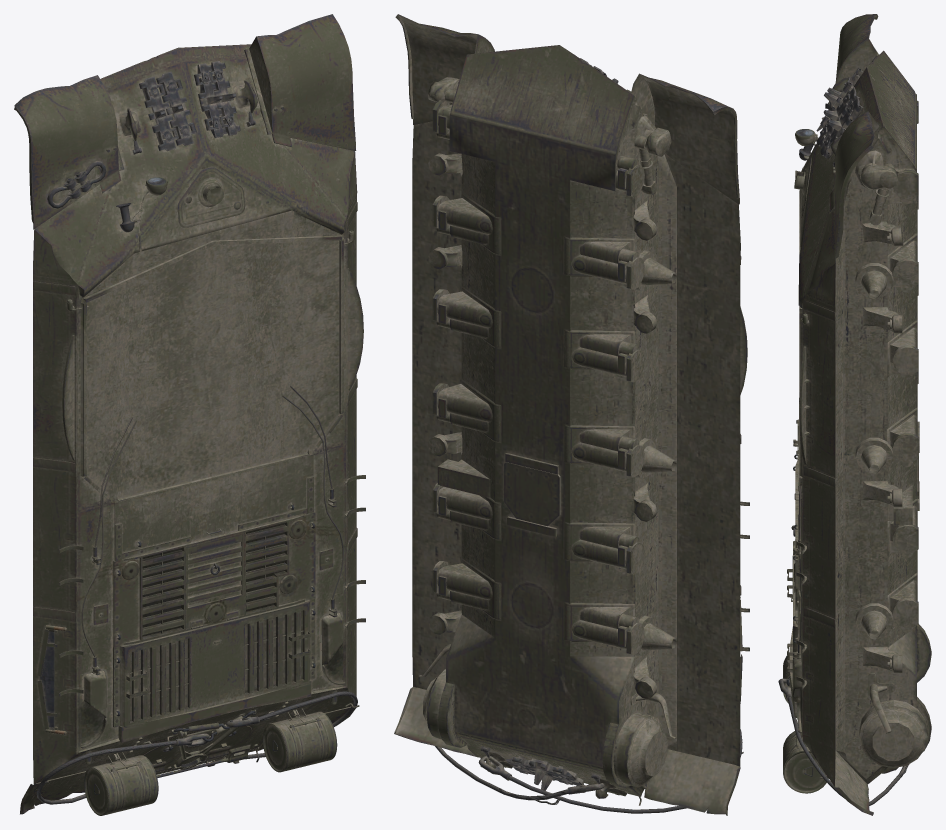
Rendered from Hull.glb.
The picture shows the model from 3 angles, left to right: view 1: azimuth 30°, elevation 25°; view 2: azimuth 150°, elevation 25°; view 3: azimuth 270°, elevation 25°; orthographic projection. The views are drawn at different scales.
Visible parts, largest first — view 1: set_0_group_0; view 2: set_0_group_0; view 3: set_0_group_0.
Boxes of the visible parts, x1=… form: set_0_group_0: x1=14, y1=14, x2=365, y2=815; set_0_group_0: x1=394, y1=14, x2=749, y2=815; set_0_group_0: x1=778, y1=14, x2=931, y2=815.
Bounding box in the file's own units: 3.23 × 7 × 1.4.
1 material, 1 textured.
